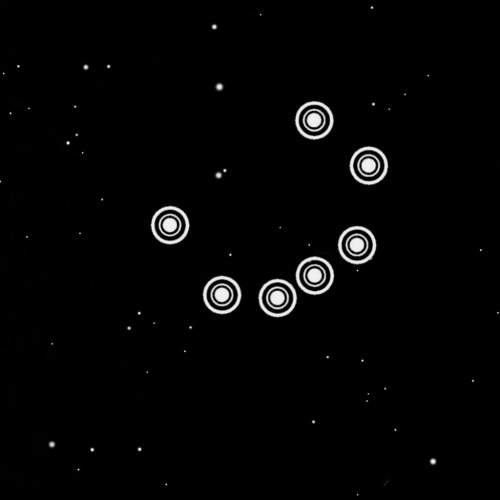corona_borealis: (145, 96, 399, 322)
